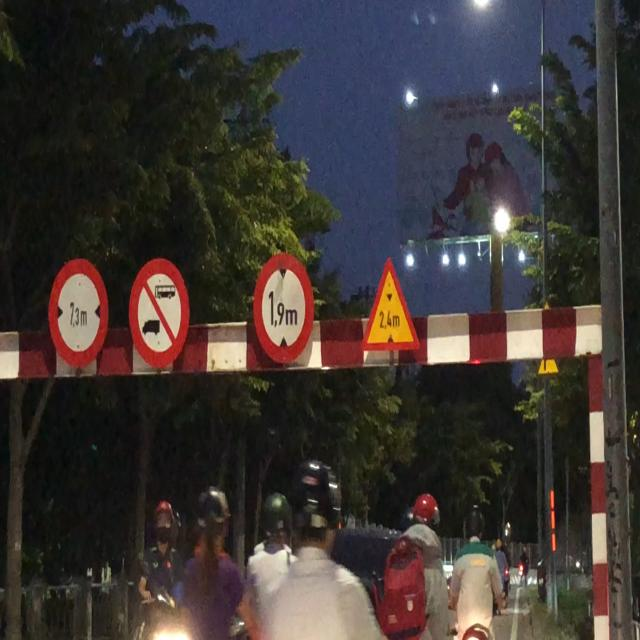Bien bao cam xe oto khach va xe oto tai: (127, 254, 195, 378)
Bien bao chieu cao tinh khong thuc te: (362, 256, 423, 362)
Bien bao han che chieu cao: (250, 248, 318, 374)
